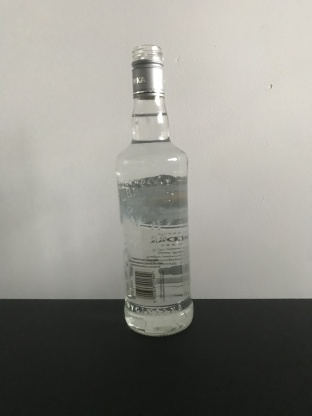nakretka: (130, 43, 166, 100)
